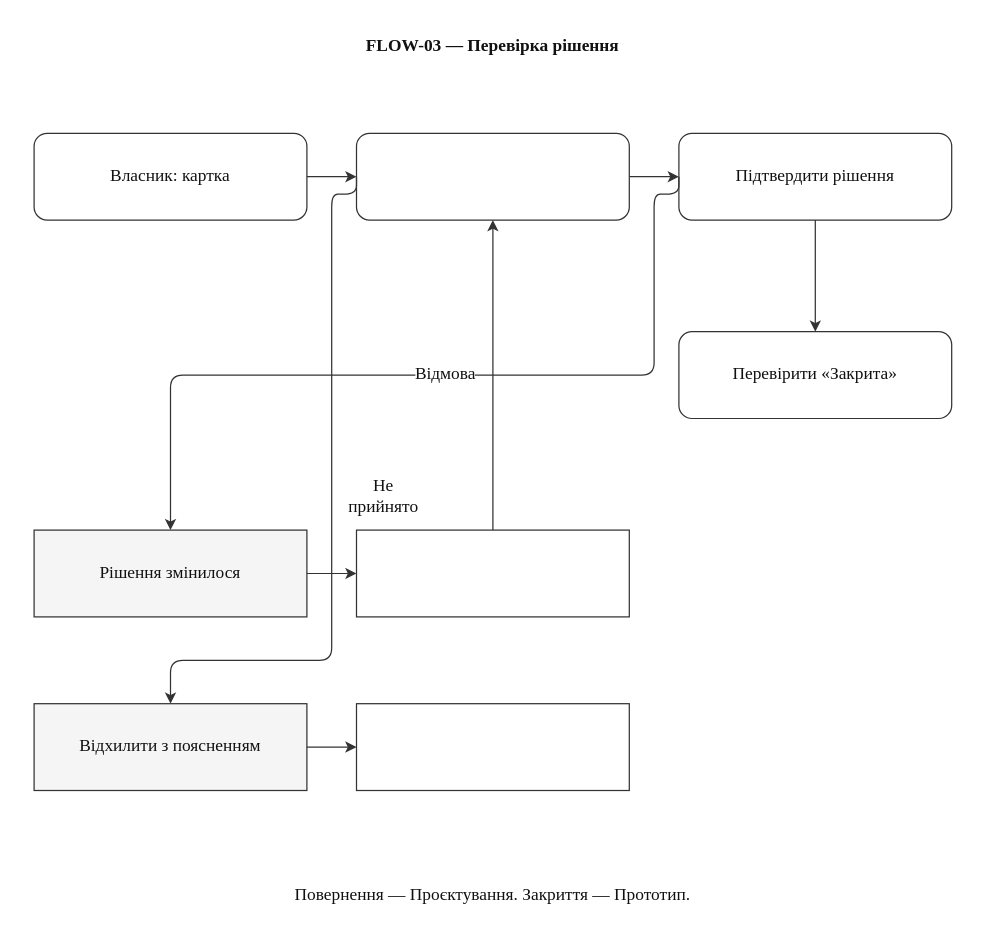
Some shapes in this 985 by 947 pixel diagram are drawn without their labels. Here are the shapes that lost their labels. From the top down, the box of each, then its label:
(355, 132, 629, 220): Прочитати рішення
(355, 529, 629, 617): Перечитати рішення
(355, 702, 629, 790): Повернення «У роботі»
